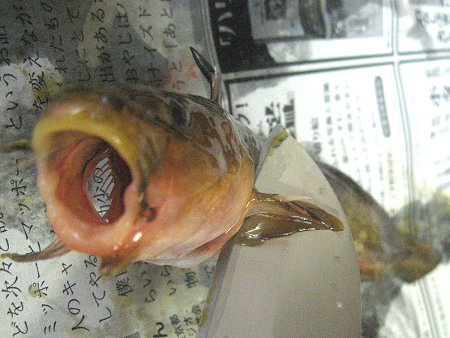gonzui: (31, 74, 268, 262)
